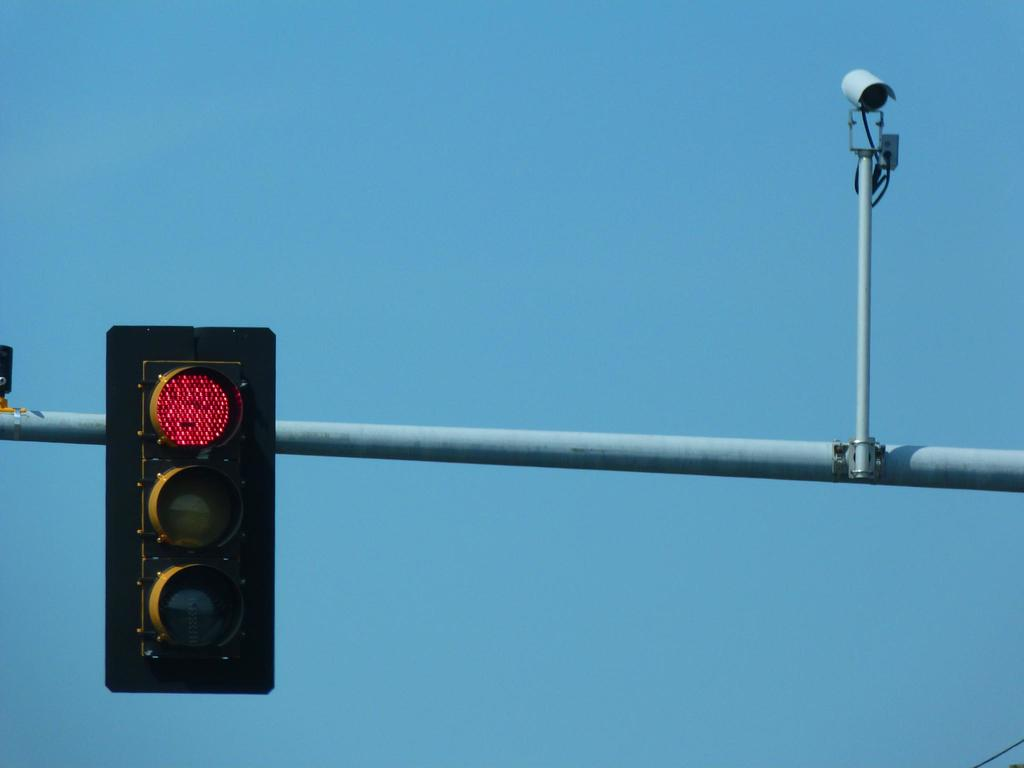red_light: (125, 337, 240, 666)
